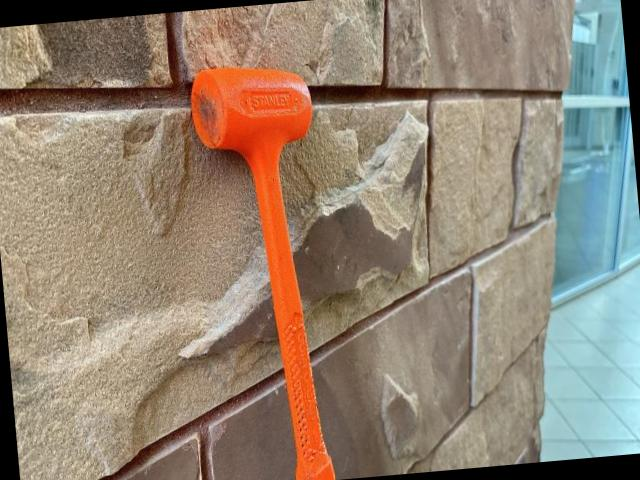hammer: (186, 59, 345, 480)
